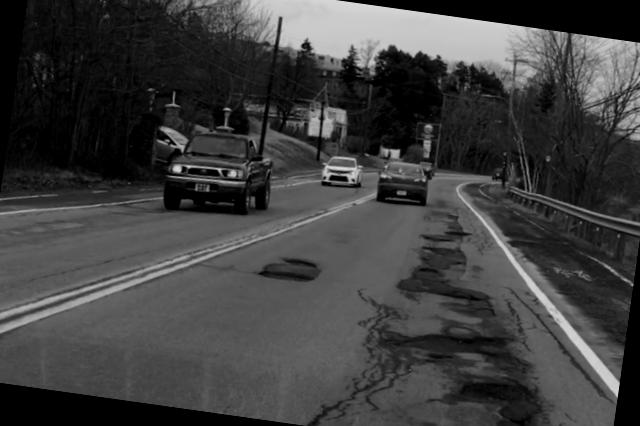Pothole: (254, 240, 337, 304), (437, 222, 485, 252)
